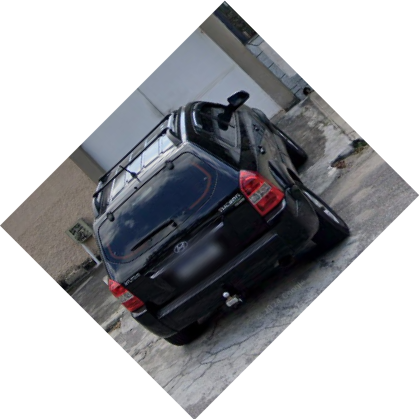car: (90, 99, 349, 349)
